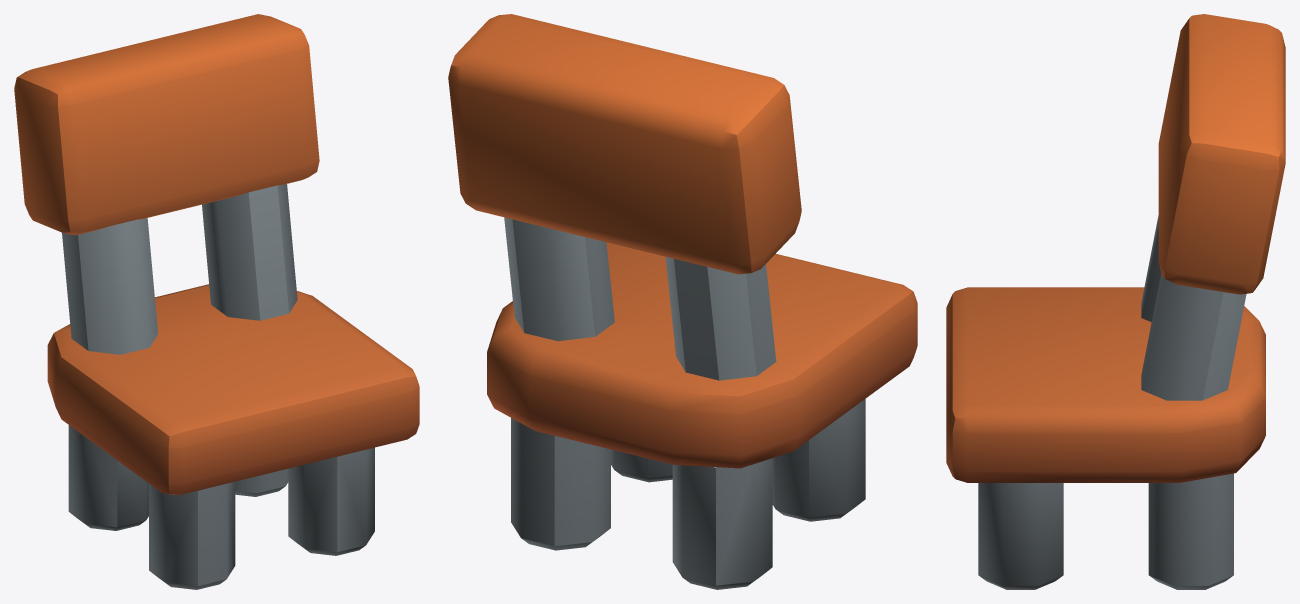
Rendered from Chair-eGccH9cqom.glb.
3 renders of one model, left to right at view 1: azimuth 30°, elevation 25°; view 2: azimuth 150°, elevation 25°; view 3: azimuth 270°, elevation 25°, orthographic. The views are drawn at different scales.
Visible parts, largest first — view 1: chair_A; view 2: chair_A; view 3: chair_A.
Part boxes in pixels (x1=…): chair_A: x1=14, y1=14, x2=419, y2=589; chair_A: x1=448, y1=14, x2=917, y2=589; chair_A: x1=946, y1=14, x2=1285, y2=589.
Size of the model in its own units: 0.75 by 1.21 by 0.7962.
1 material, 1 textured.
